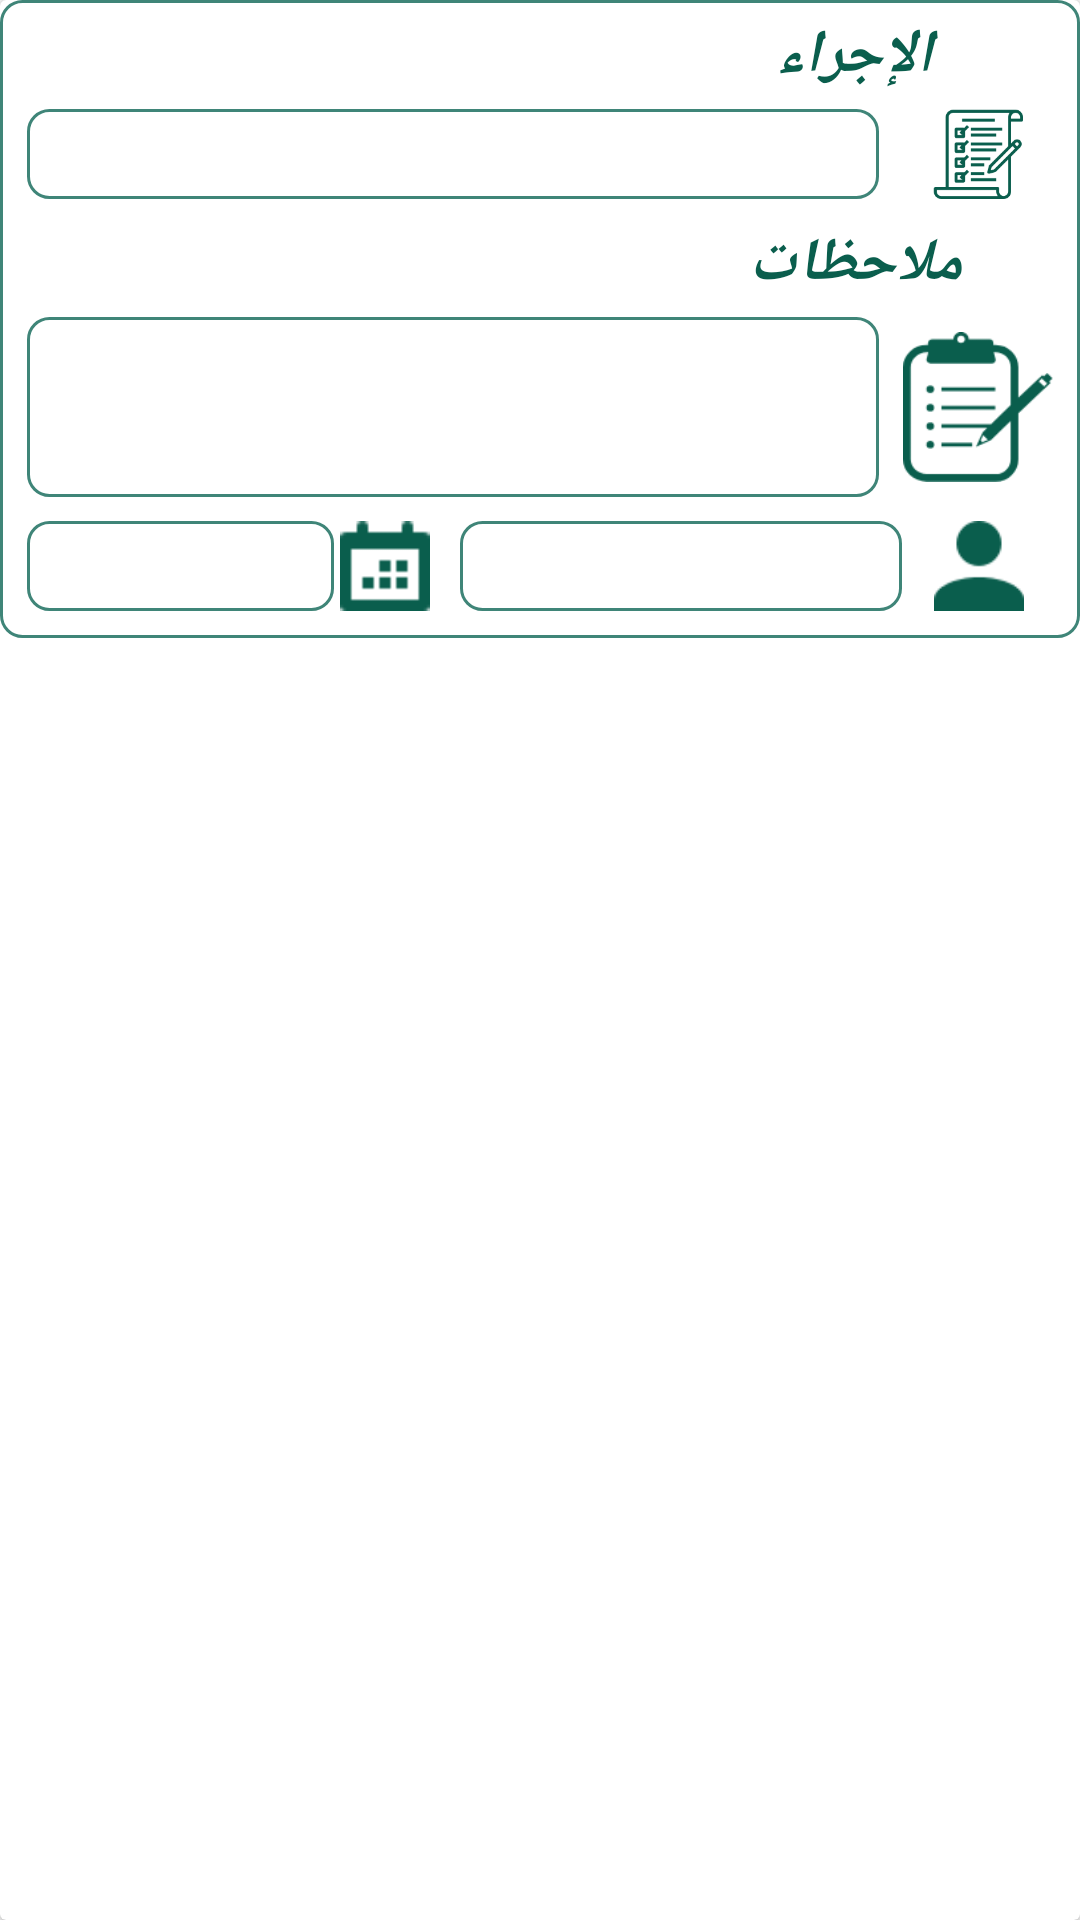

Icon click points for this 1080x1920 phone screenshot, format point (x, y):
date: point (385, 566)
egraa: point (978, 154)
note: point (978, 407)
profile: point (979, 566)
